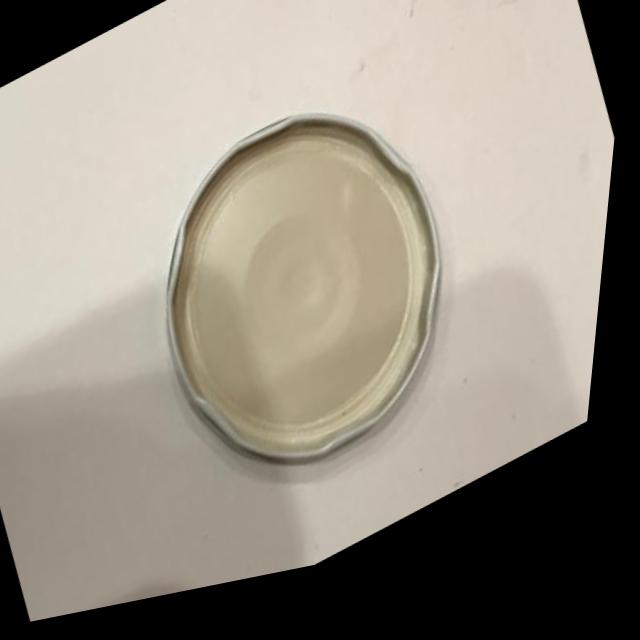metal: (79, 16, 544, 578)
